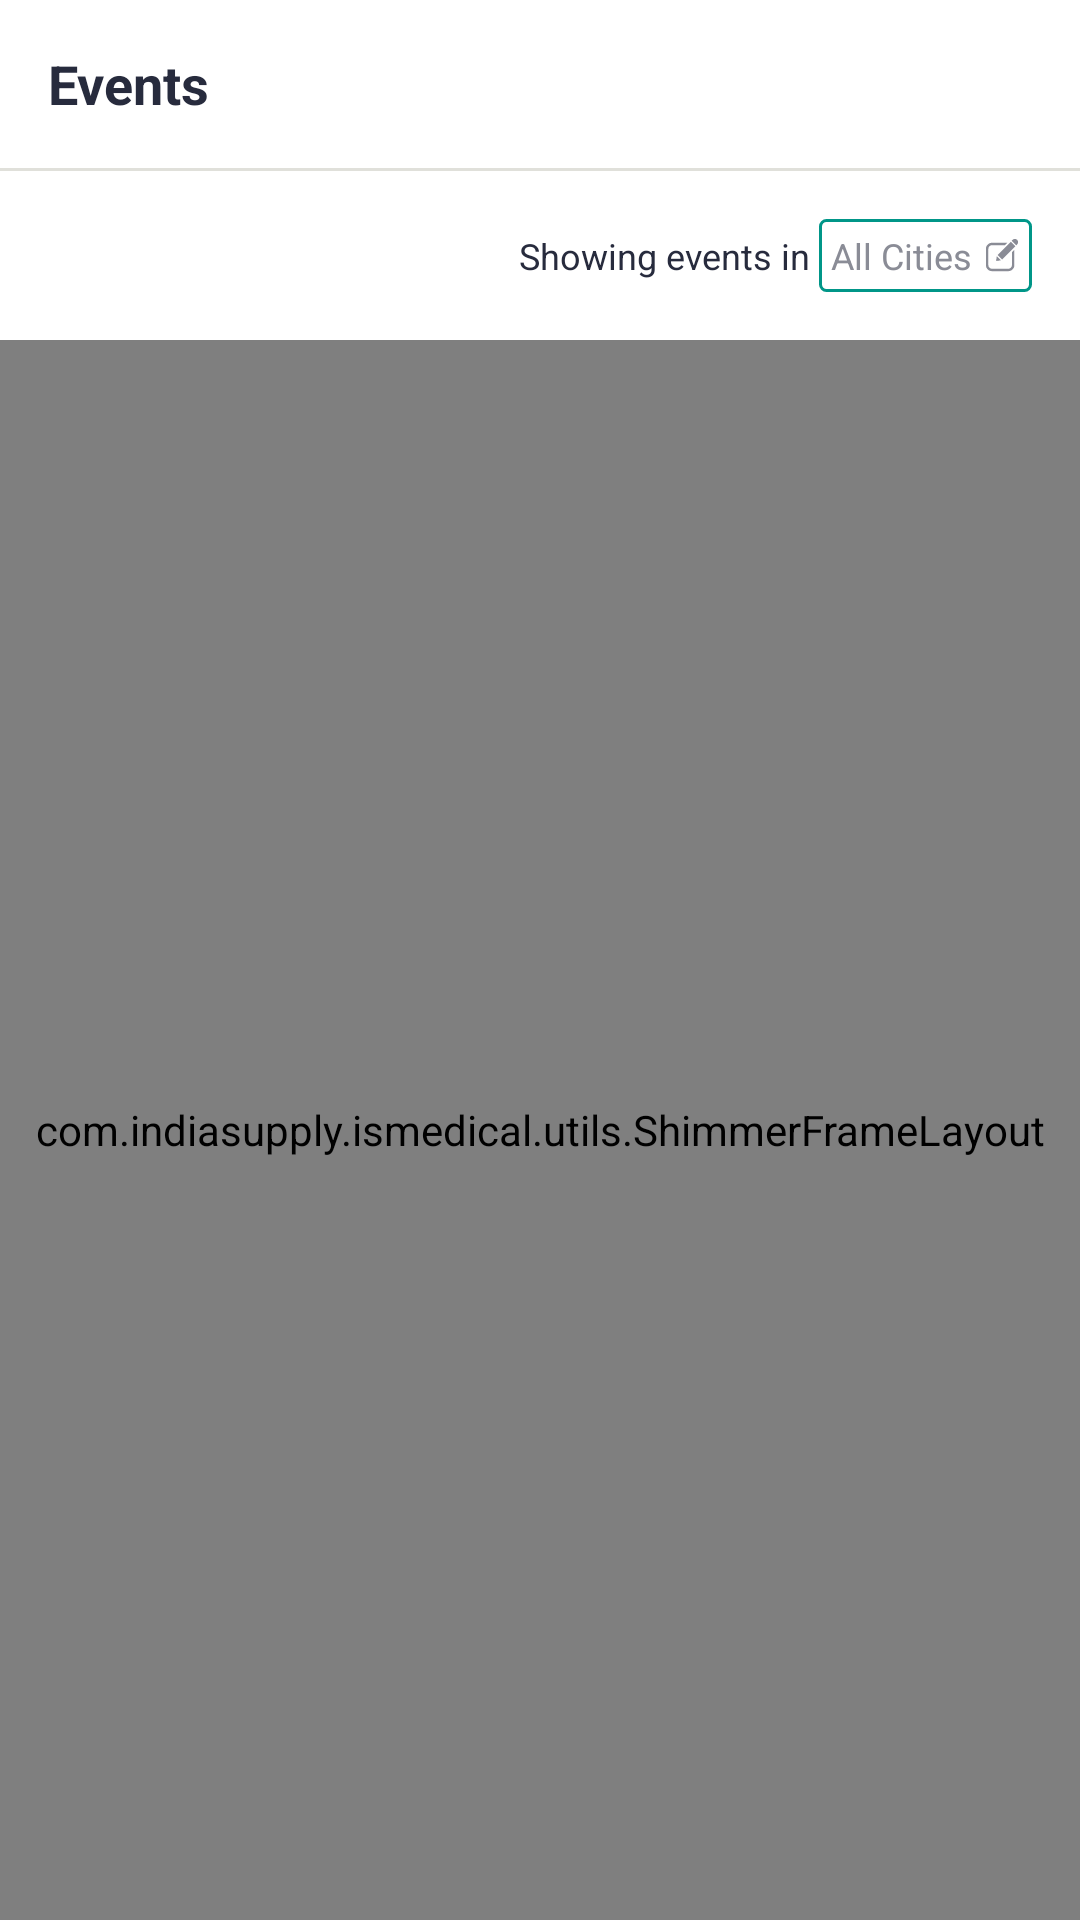

Screen size 1080px×1920px. Icon name, then its box in pixels as {"left": x1, "top": y1, "right": x2, "bottom": y2}:
edit: {"left": 986, "top": 239, "right": 1018, "bottom": 272}
